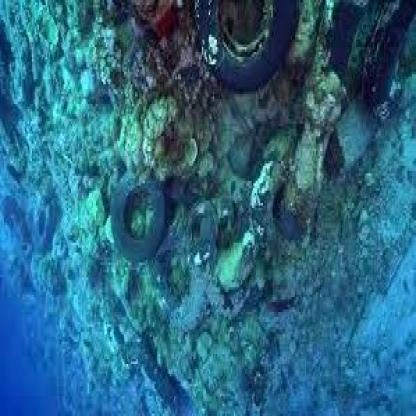tire: (198, 3, 289, 99), (113, 163, 174, 280), (185, 198, 230, 280)
